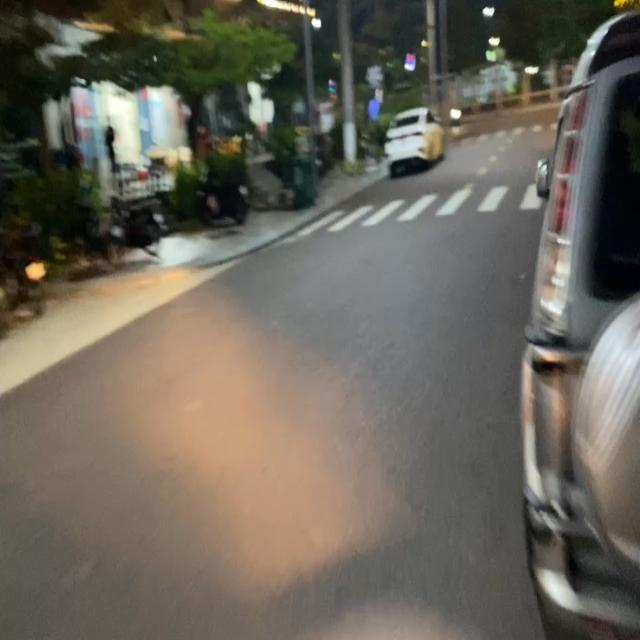walk-crossing: (307, 181, 548, 241)
